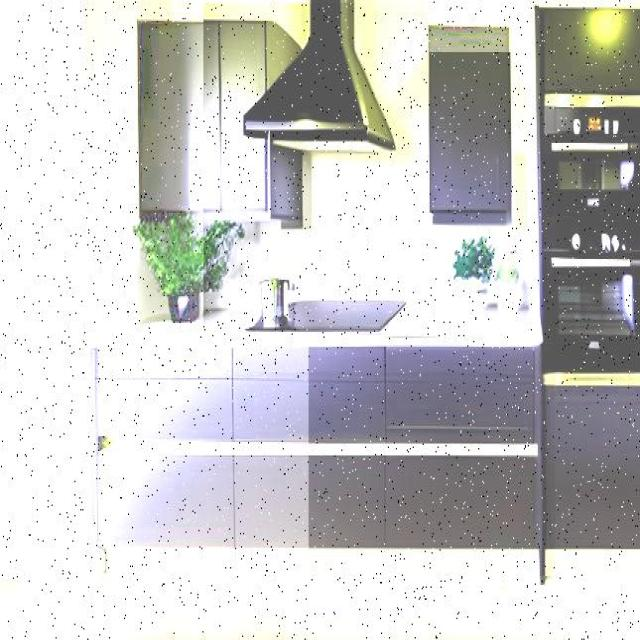Wall: (0, 0, 309, 577), (204, 3, 539, 335), (0, 577, 640, 639), (426, 0, 532, 52), (512, 154, 527, 228)
